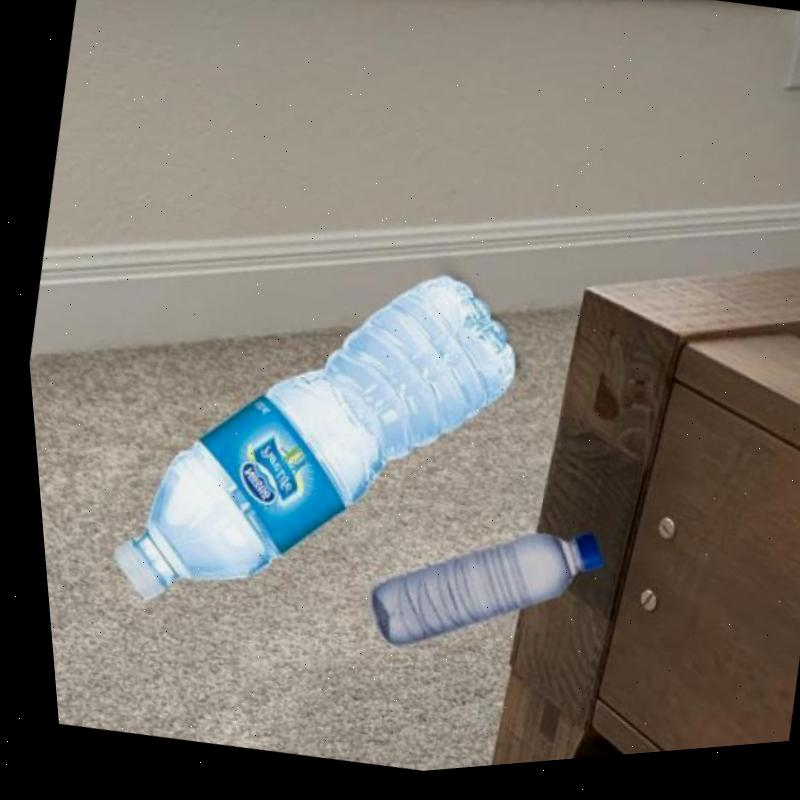botella: (72, 214, 547, 678), (346, 500, 601, 691)
